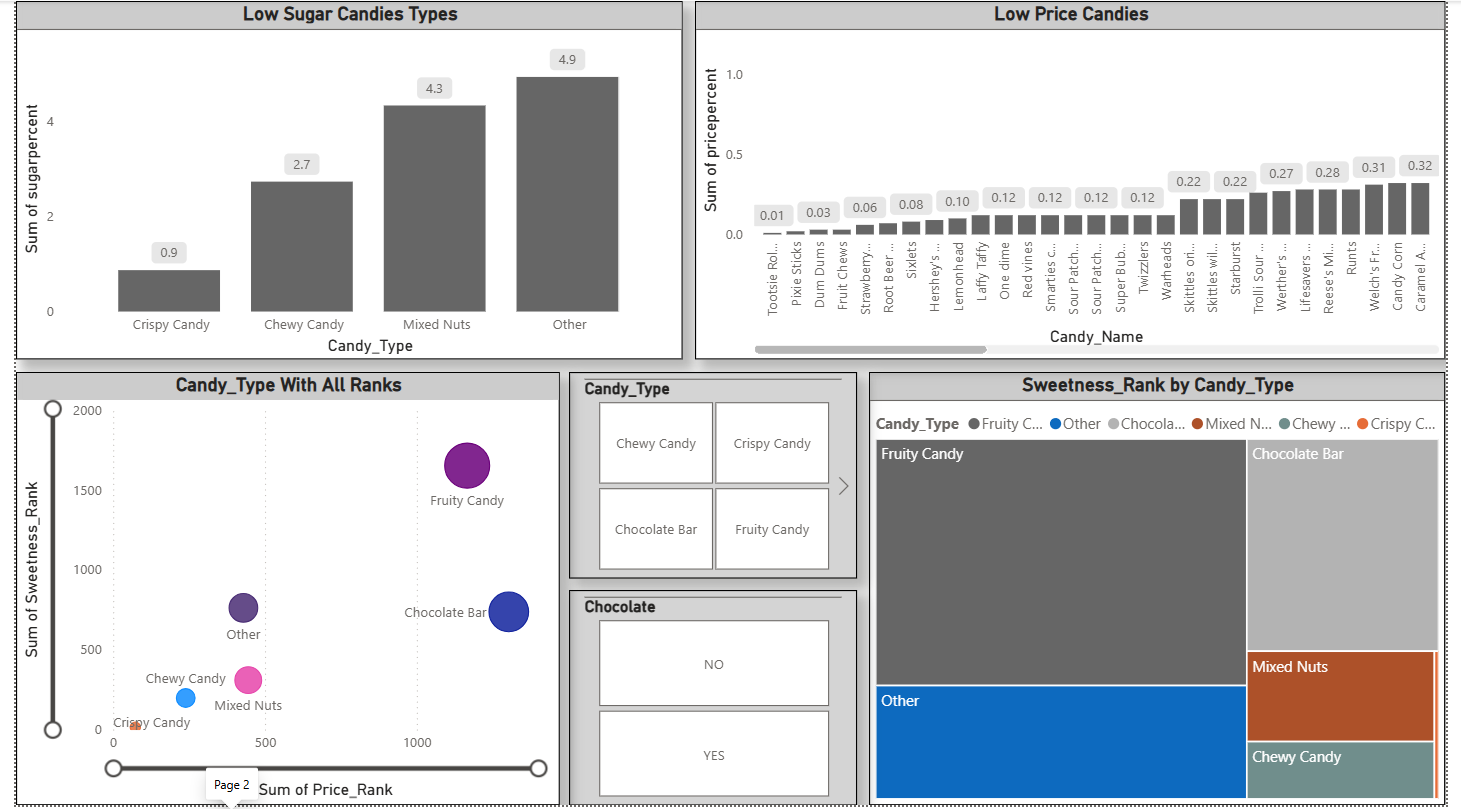

The dashboard page shown, as its layout file describes it:
{"tool":"powerbi","page":{"name":"Page 2","canvas":[1280,720],"ordinal":1},"visuals":[{"type":"treemap","title":"Sweetness_Rank by Candy_Type","fields":{"Group":["candy-data.Candy_Type"],"Values":["Sum(candy-data.Sweetness_Rank)"]},"box":[764.3,332.6,516,387.6],"z":0},{"type":"clusteredColumnChart","title":"Low Sugar Candies Types","fields":{"Y":["Sum(candy-data.sugarpercent)"],"Category":["candy-data.Candy_Type"]},"box":[0,0,596.9,321.1],"z":1000},{"type":"clusteredColumnChart","title":"Low Price Candies","fields":{"Category":["candy-data.Candy_Name"],"Y":["Sum(candy-data.pricepercent)"]},"box":[607.9,0,672.4,321.1],"z":2000},{"type":"slicer","fields":{"Values":["candy-data.Candy_Type"]},"box":[495.2,332.6,258,184.6],"z":3000},{"type":"slicer","fields":{"Values":["candy-data.chocolate"]},"box":[495.2,527,258,193.2],"z":4000},{"type":"scatterChart","title":"Candy_Type With All Ranks","fields":{"X":["Sum(candy-data.Price_Rank)"],"Y":["Sum(candy-data.Sweetness_Rank)"],"Category":["candy-data.Candy_Type"],"Size":["Sum(candy-data.winpercent)"]},"box":[0,332.6,486.7,387.6],"z":5000}]}

Visuals, with their boxes in screenshot pixels (x1, y1, x2, y2), scaled from the page's 1280x720 canvas onto the 1461x809 screenshot:
"Sweetness_Rank by Candy_Type" treemap: [872, 374, 1460, 808]
"Low Sugar Candies Types" clusteredColumnChart: [0, 0, 681, 361]
"Low Price Candies" clusteredColumnChart: [694, 0, 1460, 361]
slicer - candy-data.Candy_Type: [565, 374, 860, 581]
slicer - candy-data.chocolate: [565, 592, 860, 808]
"Candy_Type With All Ranks" scatterChart: [0, 374, 556, 808]
